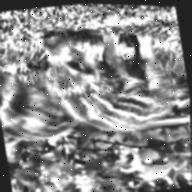boar: (35, 16, 174, 146)
